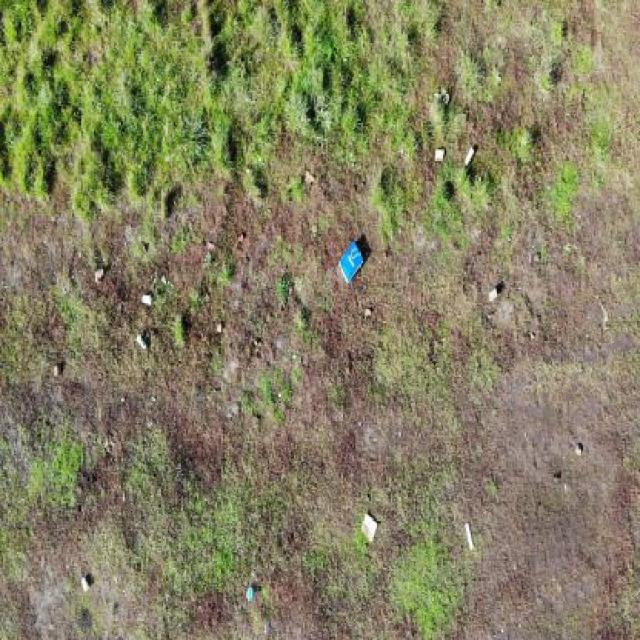Garbage: (337, 241, 364, 284), (360, 511, 378, 543), (462, 145, 476, 170), (464, 522, 475, 553), (94, 267, 107, 283), (135, 334, 146, 351), (80, 576, 90, 593), (488, 287, 498, 303), (434, 148, 446, 161), (140, 294, 152, 306), (246, 584, 253, 601), (53, 365, 58, 377)
